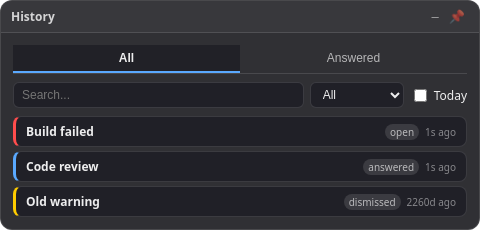
Scenario: HistoryWidget › filters to today only
The width and height of the screenshot is (497, 247).
Expected: the text "Old warning" is shown, [26,193,100,210]
Click the checkbox labelled "Today": (420, 95) [414,88,427,102]
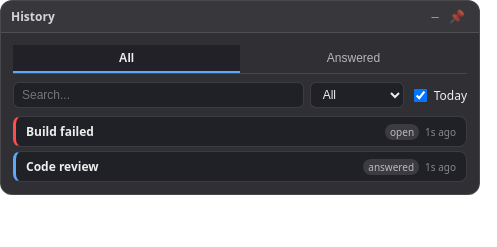
Expected: the text "Build failed" is shown, [26,123,94,140]
Now the text "Old warning" is gone
